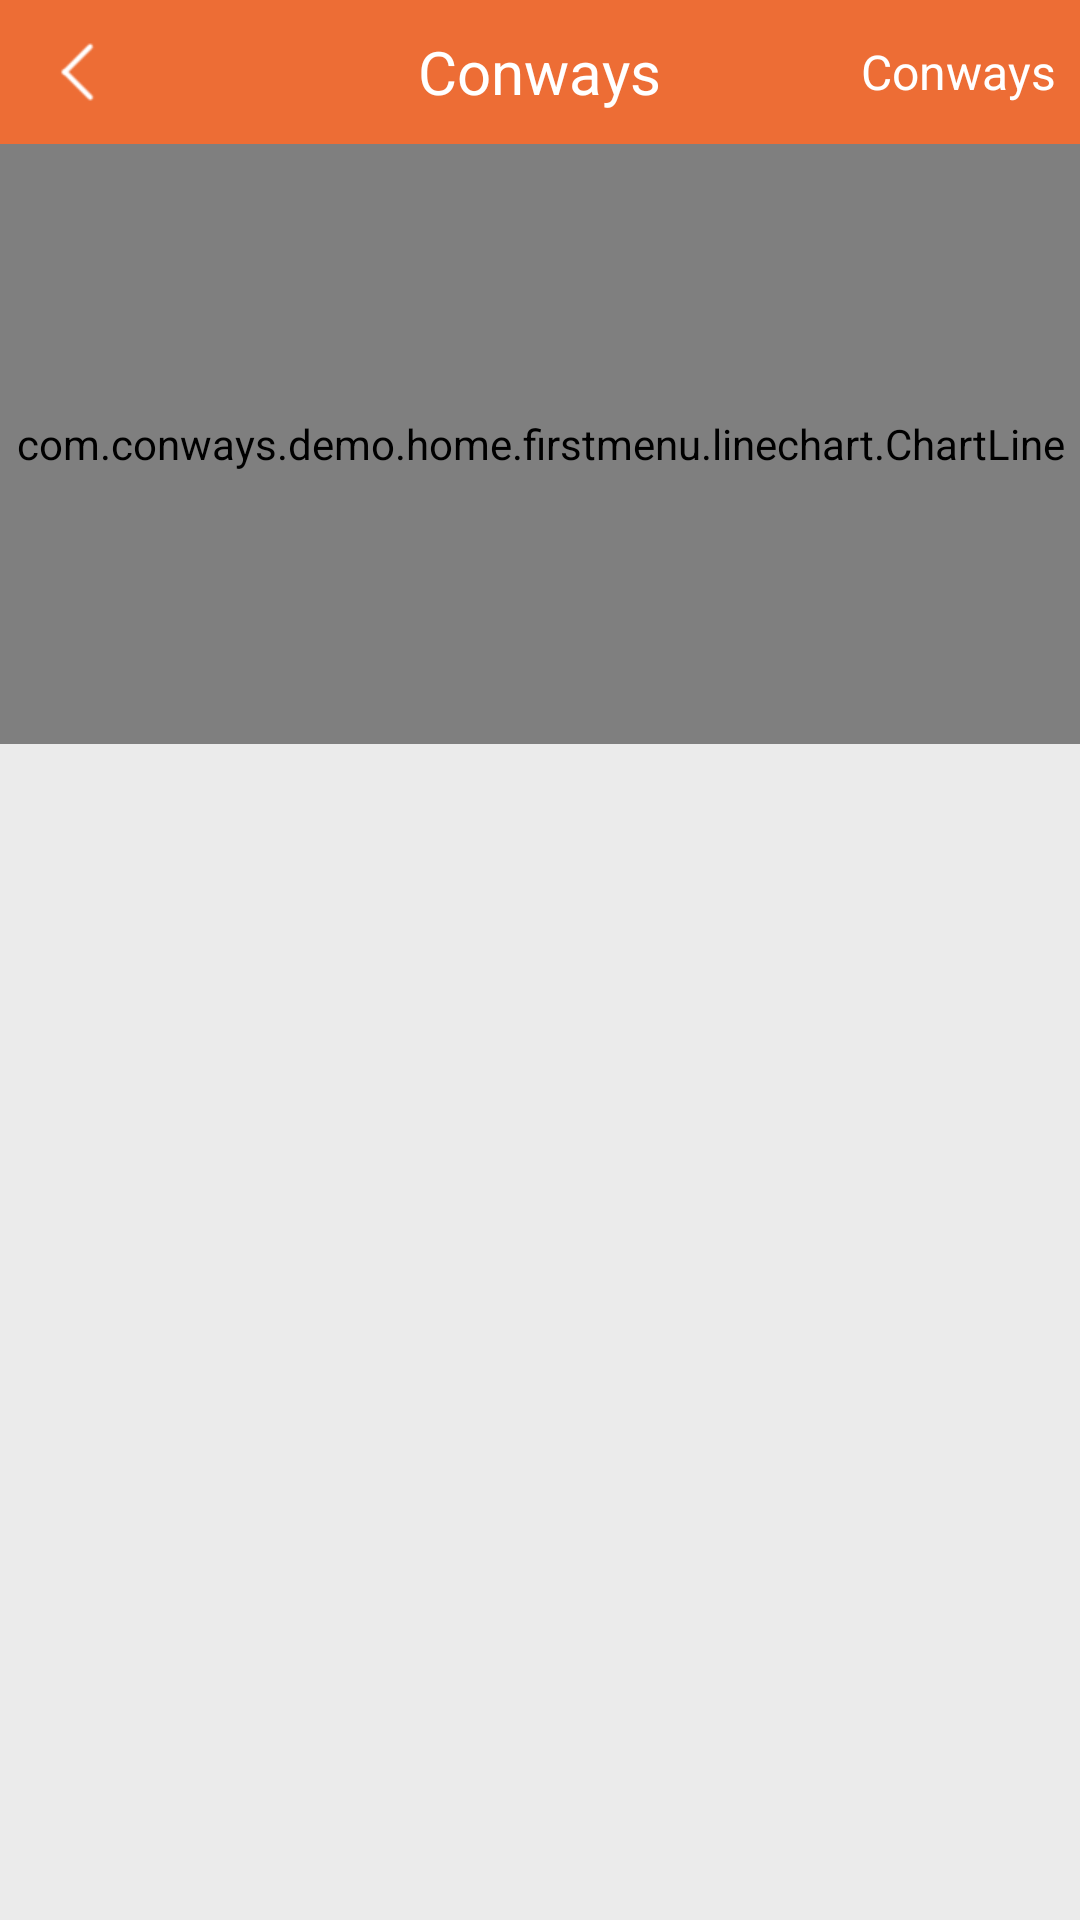

Icons on this 1080px×1920px Android screen, each with the point to tap as [x,y]:
arrow back: [77,72]
